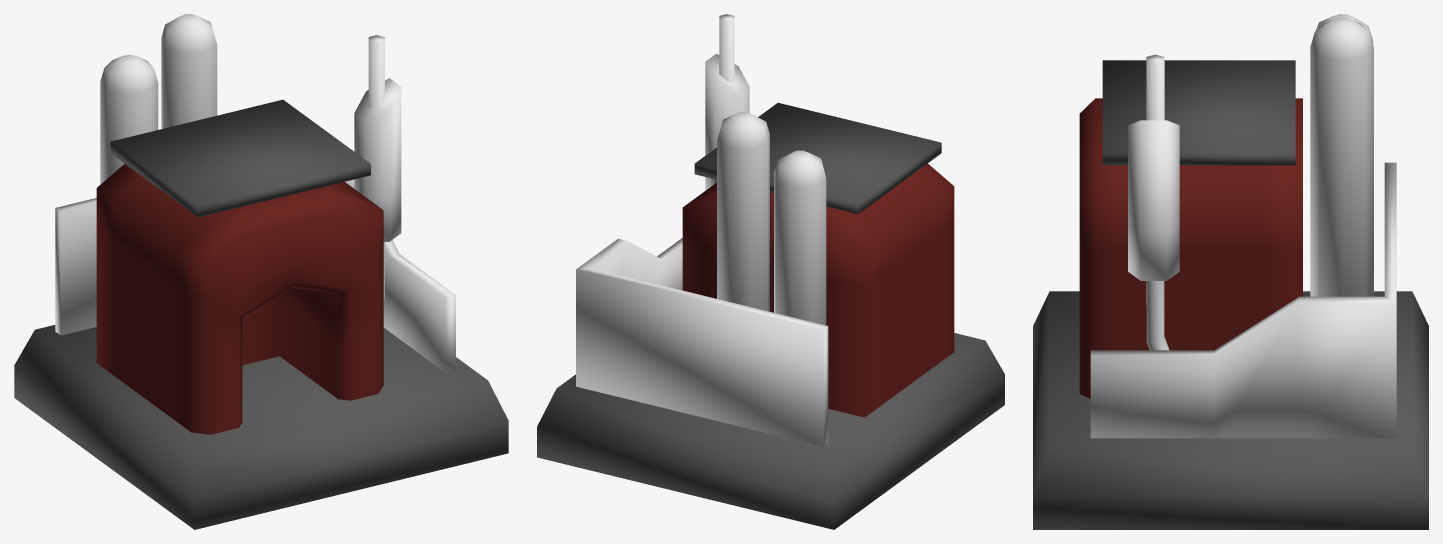
Rendered from furnace.fbx.
The picture shows the model from 3 angles, left to right: view 1: azimuth 30°, elevation 25°; view 2: azimuth 150°, elevation 25°; view 3: azimuth 270°, elevation 25°; orthographic projection. The views are drawn at different scales.
Visible parts, largest first — view 1: Cube, Cube.001, Cube.004, Cube.003, Cylinder.001, Cylinder, Cylinder.002, Cube.002; view 2: Cube.001, Cube.003, Cube, Cube.004, Cylinder.001, Cylinder.002, Cylinder, Cube.002; view 3: Cube.001, Cube.003, Cube, Cylinder.001, Cube.004, Cylinder, Cube.002.
Part boxes in pixels (x1,y1,x2,y2): Cube: (96,164,383,434); Cube.001: (14,325,508,529); Cube.004: (110,99,370,217); Cube.003: (55,179,455,372); Cylinder.001: (161,14,217,129); Cylinder: (354,78,401,241); Cylinder.002: (100,54,158,184); Cube.002: (368,35,384,301); Cube.001: (537,333,1004,529); Cube.003: (576,238,828,446); Cube: (682,163,954,417); Cube.004: (694,102,941,213); Cylinder.001: (717,112,769,311); Cylinder.002: (774,150,826,325); Cylinder: (705,53,749,190); Cube.002: (719,14,734,82); Cube.001: (1033,291,1428,529); Cube.003: (1090,162,1396,438); Cube: (1079,98,1302,398); Cylinder.001: (1310,17,1373,296); Cube.004: (1102,60,1295,165); Cylinder: (1128,120,1179,280); Cube.002: (1146,54,1169,350).
Bounding box in the file's own units: 614 × 733 × 611.
